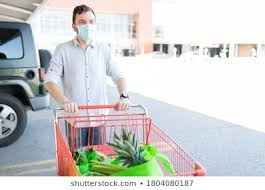with_basket: (54, 100, 200, 177)
with_mask: (73, 5, 97, 43)
